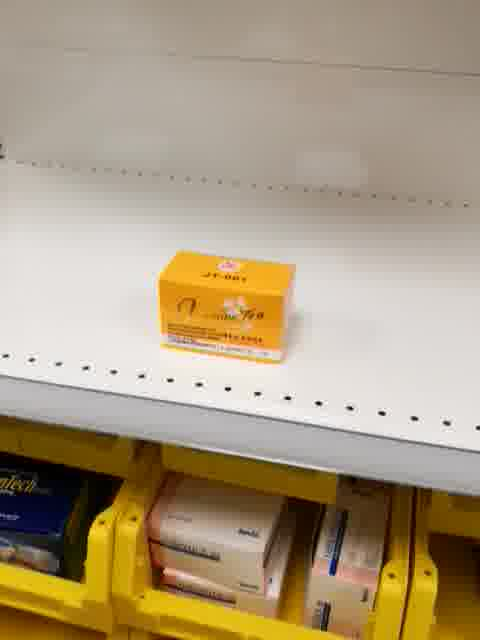jasminetea: (155, 248, 298, 366)
